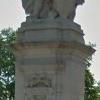Statue: (15, 0, 86, 49)
